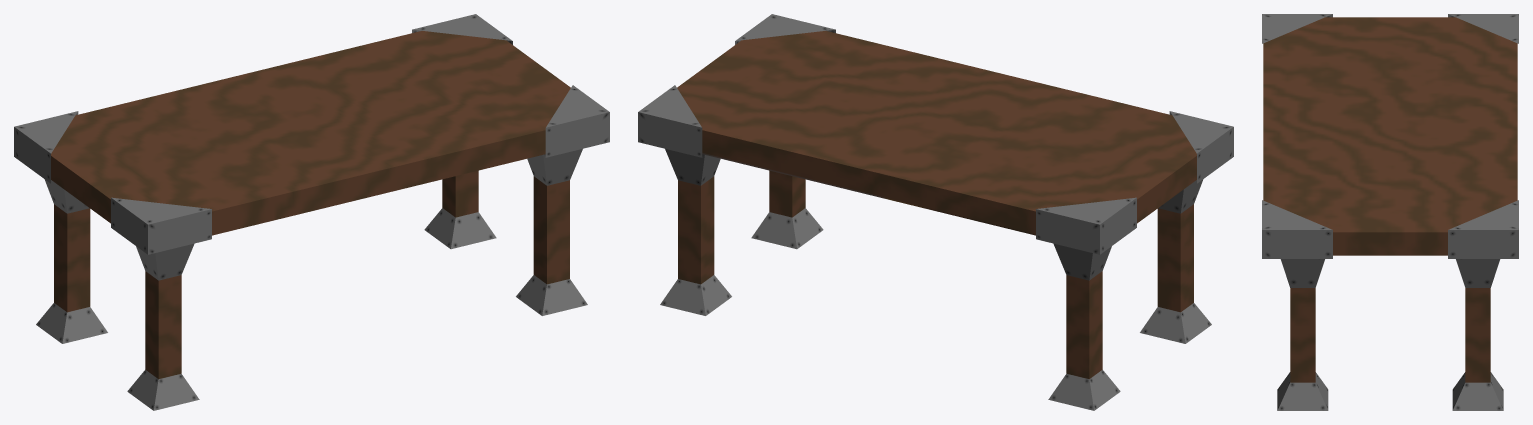
File: Sorting Table.fbx
3 renders of one model, left to right at view 1: azimuth 30°, elevation 25°; view 2: azimuth 150°, elevation 25°; view 3: azimuth 270°, elevation 25°, orthographic. The views are drawn at different scales.
Parts seen in each view (by area): view 1: Sorting Table; view 2: Sorting Table; view 3: Sorting Table.
Boxes of the visible parts, x1,y1,x2,y2 form: Sorting Table: (14,14,609,410); Sorting Table: (638,14,1233,410); Sorting Table: (1262,14,1518,410).
Size of the model in its own units: 2.01 by 0.8127 by 1.01.
